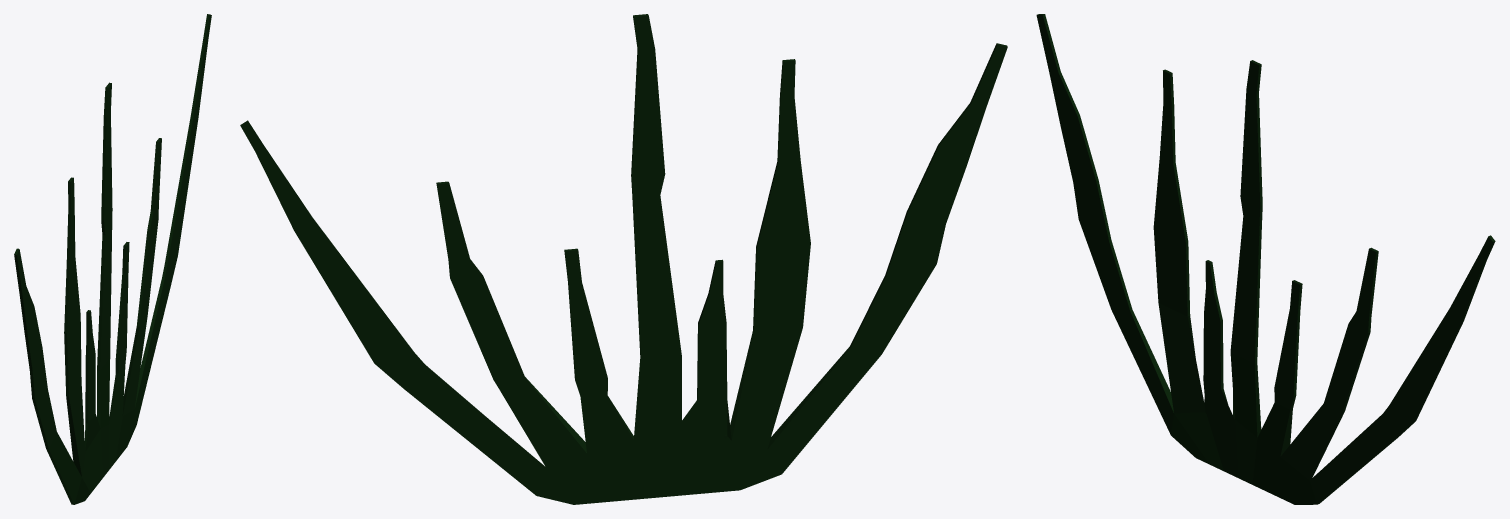
Rendered from Seaweed_Tall.obj.
3 views of the same model, side by side, from view 1: azimuth 30°, elevation 25°; view 2: azimuth 150°, elevation 25°; view 3: azimuth 270°, elevation 25° (orthographic). The views are drawn at different scales.
Bounding box in the file's own units: 3.1 × 2.81 × 2.77.
